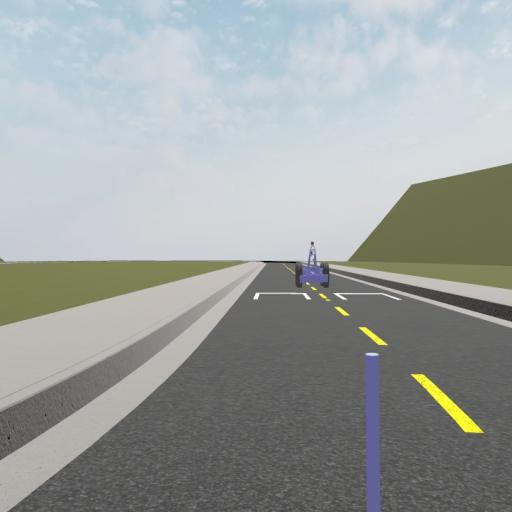ERP-42: (296, 243, 329, 287)
